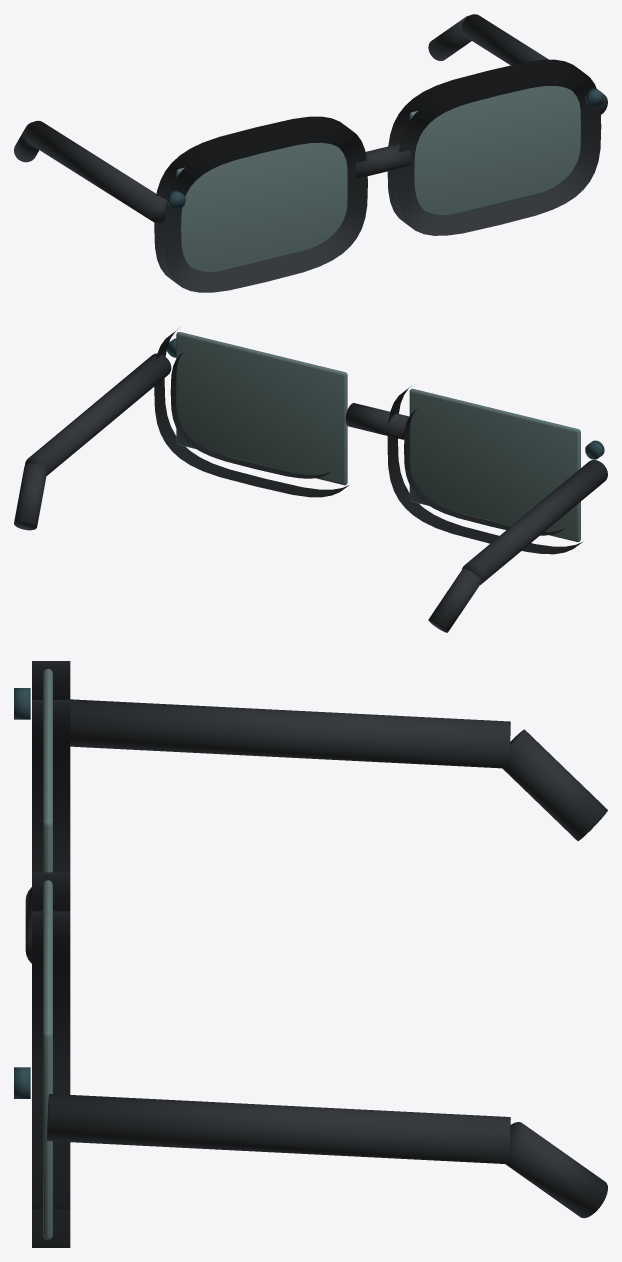
File: glasses.glb
The picture shows the model from 3 angles, top to bottom: view 1: azimuth 30°, elevation 25°; view 2: azimuth 150°, elevation 25°; view 3: azimuth 270°, elevation 25°; orthographic projection. The views are drawn at different scales.
Visible parts, largest first — view 1: Tinted lens.001, Tinted lens, Lens frame.001, Lens frame, Temple hinge, Temple hinge.001, Nose bridge, Temple ear tip.001, Temple ear tip; view 2: Tinted lens.001, Tinted lens, Temple hinge, Temple hinge.001, Lens frame.001, Lens frame, Temple ear tip.001, Temple ear tip, Nose bridge; view 3: Temple hinge.001, Temple hinge, Lens frame.001, Lens frame, Temple ear tip, Temple ear tip.001, Tinted lens.001, Tinted lens.
Boxes of the visible parts, x1,y1,x2,y2 form: Tinted lens.001: (409,86,580,214); Tinted lens: (176,142,347,271); Lens frame.001: (387,59,601,235); Lens frame: (154,116,367,292); Temple hinge: (25,120,166,223); Temple hinge.001: (461,14,607,114); Nose bridge: (356,143,411,178); Temple ear tip.001: (428,15,471,60); Temple ear tip: (14,122,39,162); Tinted lens.001: (176,332,347,485); Tinted lens: (409,388,580,542); Temple hinge: (462,460,607,584); Temple hinge.001: (25,353,171,475); Lens frame.001: (154,327,349,497); Lens frame: (387,386,582,554); Temple ear tip.001: (14,463,46,530); Temple ear tip: (428,568,481,632); Nose bridge: (345,403,408,439); Temple hinge.001: (46,1093,510,1163); Temple hinge: (70,699,510,768); Lens frame.001: (32,872,70,1247); Lens frame: (32,661,70,872); Temple ear tip: (502,729,607,840); Temple ear tip.001: (505,1122,607,1218); Tinted lens.001: (43,880,52,1239); Tinted lens: (43,669,52,872).
Size of the model in its own units: 1.53 by 0.47 by 0.9266.
